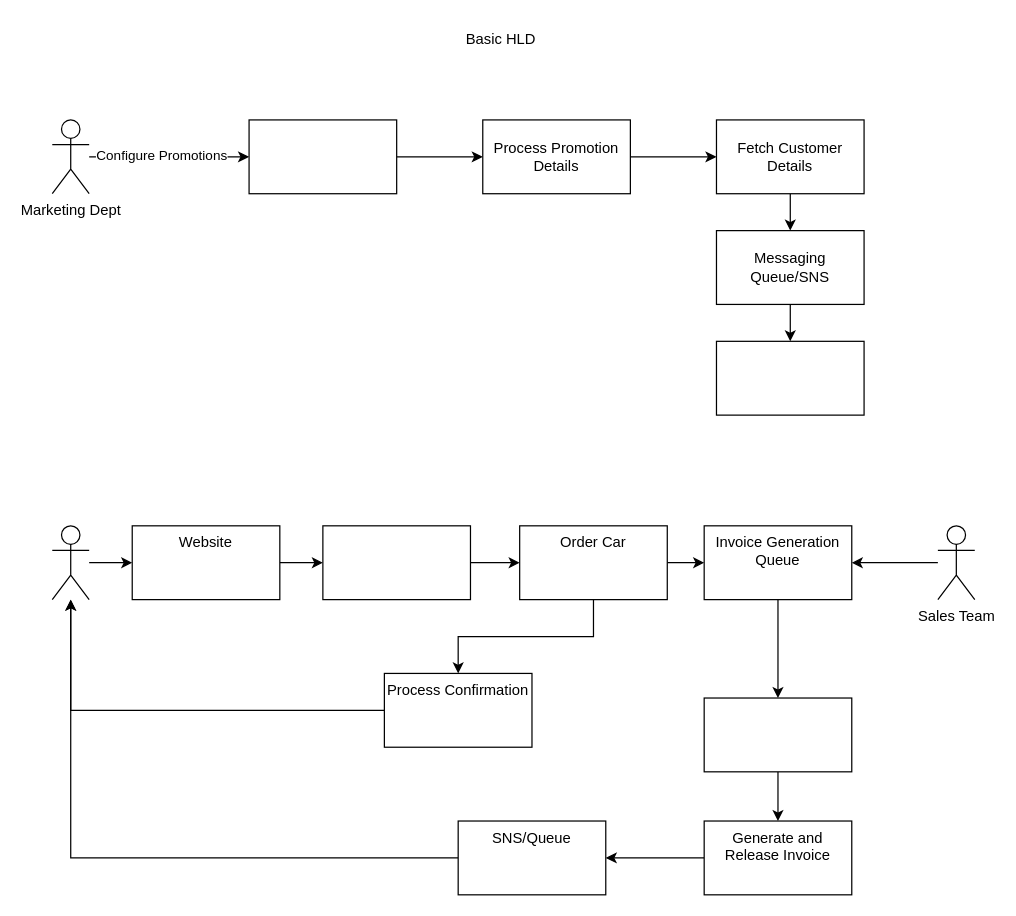
Image size: 1016x916. Some labels were removed from this diagram. The shapes that lost their labels are listed below. From the top down, each one's box as (x1, y1, x2, y2) in pixels, then its label:
(248, 119, 397, 194): Admin Console
(715, 340, 864, 415): Broadcast message to Email and SMS
(51, 525, 89, 600): Customer
(322, 525, 470, 600): Select Car and delivery date
(703, 697, 852, 772): Validate Invoice
